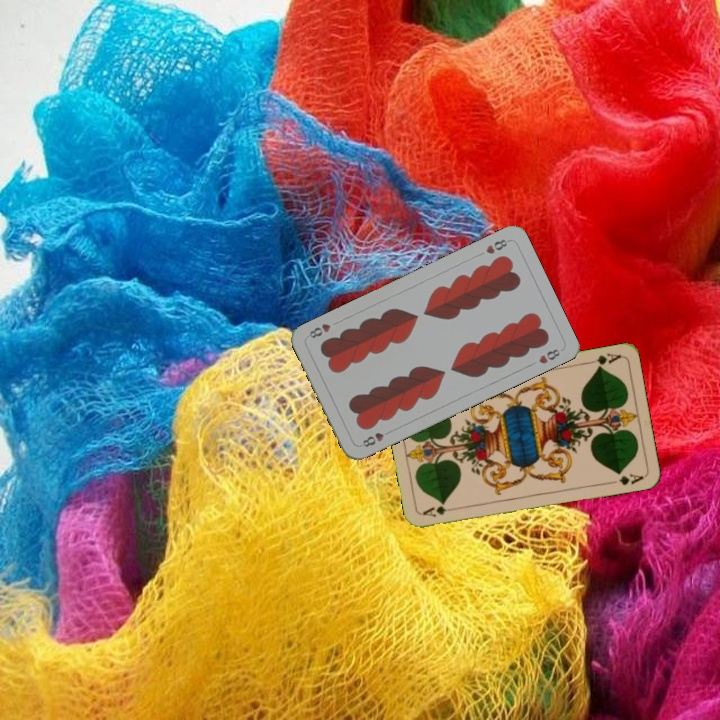GA: (583, 349, 623, 371), (418, 502, 459, 519)
H8: (358, 426, 394, 450), (482, 235, 512, 257)
